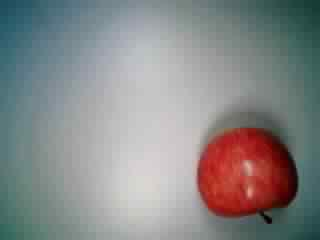apple: (197, 122, 300, 226)
